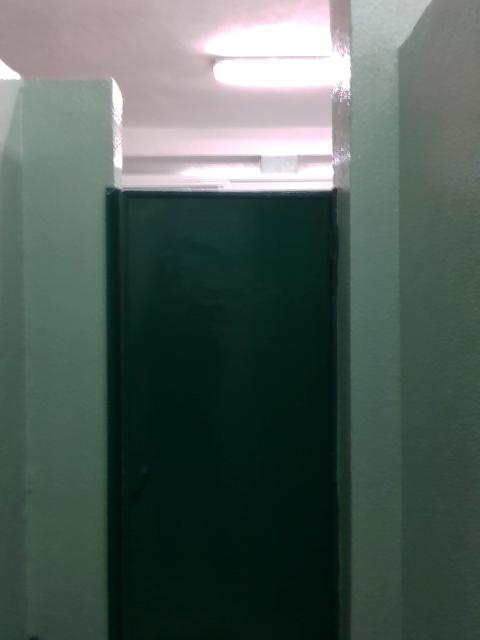door: (119, 190, 348, 638)
